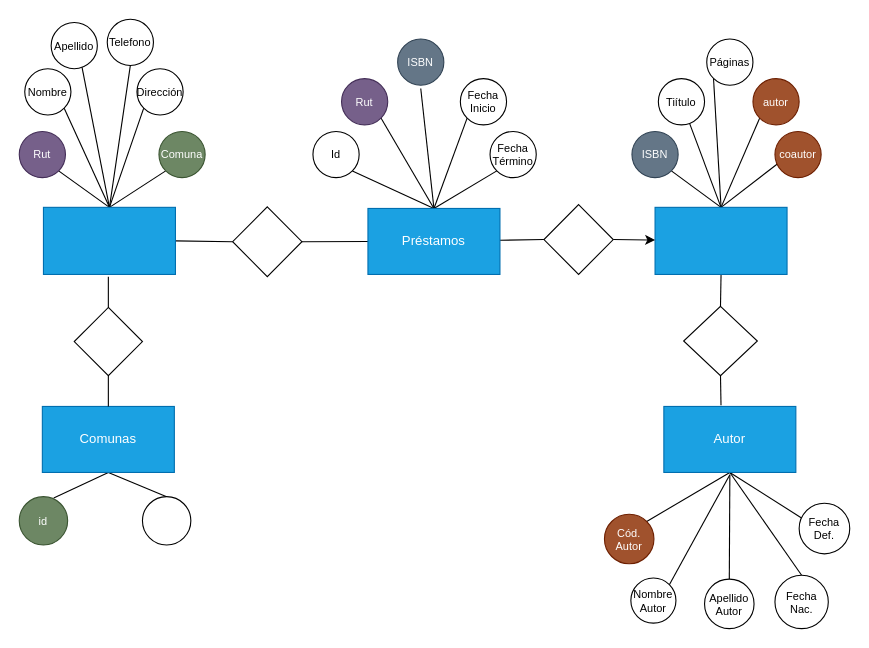
Image size: 869x648. Some labels were removed from this diagram. Each missing label, with the centre of its shape:
"Escritos por" belongs at (720,340).
"Libros" belongs at (720,240).
"Nombre Comuna" belongs at (166,520).
"Para solicitar" belongs at (578,239).
"Realizan" belongs at (267,241).
"Socios" belongs at (108,240).
"Viven en" belongs at (107,341).
